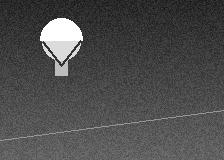helmet: (40, 18, 82, 65)
